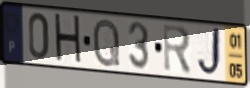0: (27, 11, 51, 63)
3: (127, 20, 150, 72)
H: (53, 11, 84, 68)
J: (195, 25, 223, 80)
Q: (91, 17, 122, 69)
R: (161, 22, 193, 77)
